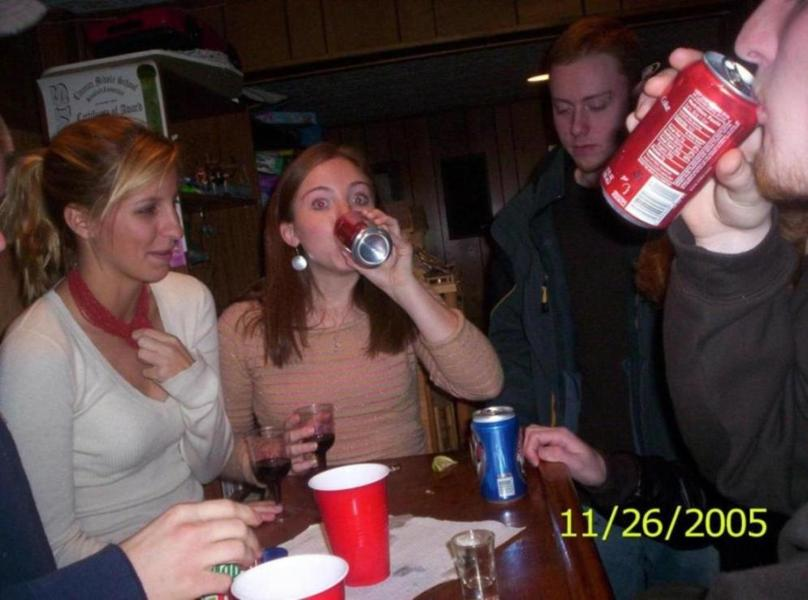person: (219, 140, 504, 489)
